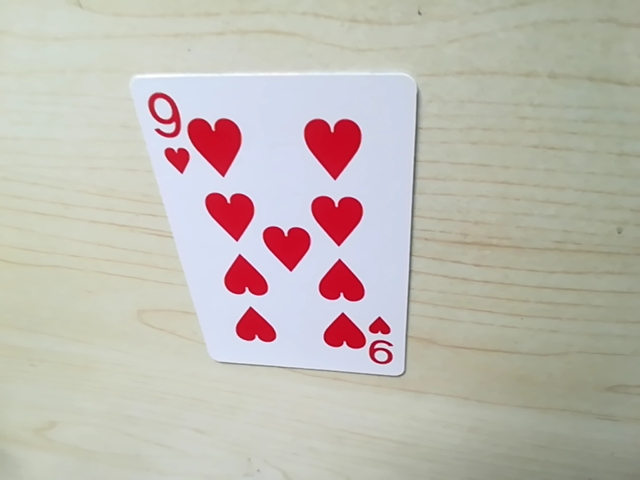hx 9: (144, 89, 188, 153), (357, 326, 399, 373)
